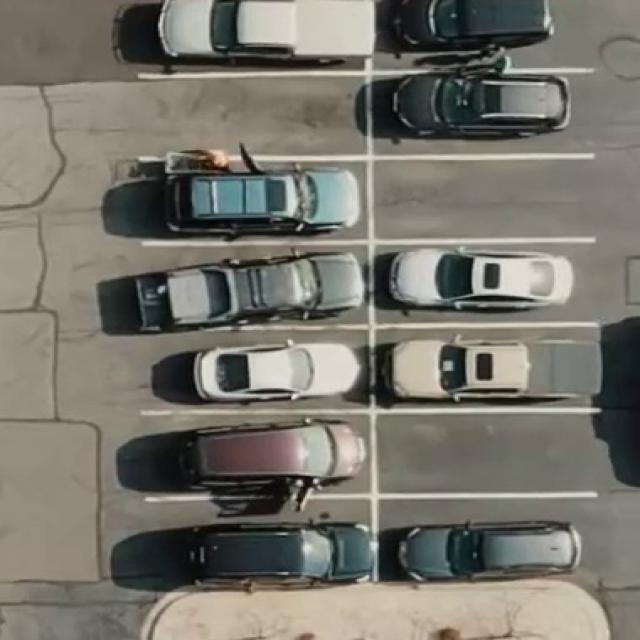empty: (140, 77, 369, 153), (378, 415, 604, 492), (378, 160, 600, 236)
notEmpty: (139, 246, 369, 326), (376, 327, 605, 407), (147, 500, 375, 580), (379, 497, 601, 578), (376, 243, 601, 322), (143, 330, 373, 407), (149, 414, 373, 493), (374, 75, 596, 154), (139, 162, 370, 236), (135, 1, 366, 69), (375, 1, 599, 70)
